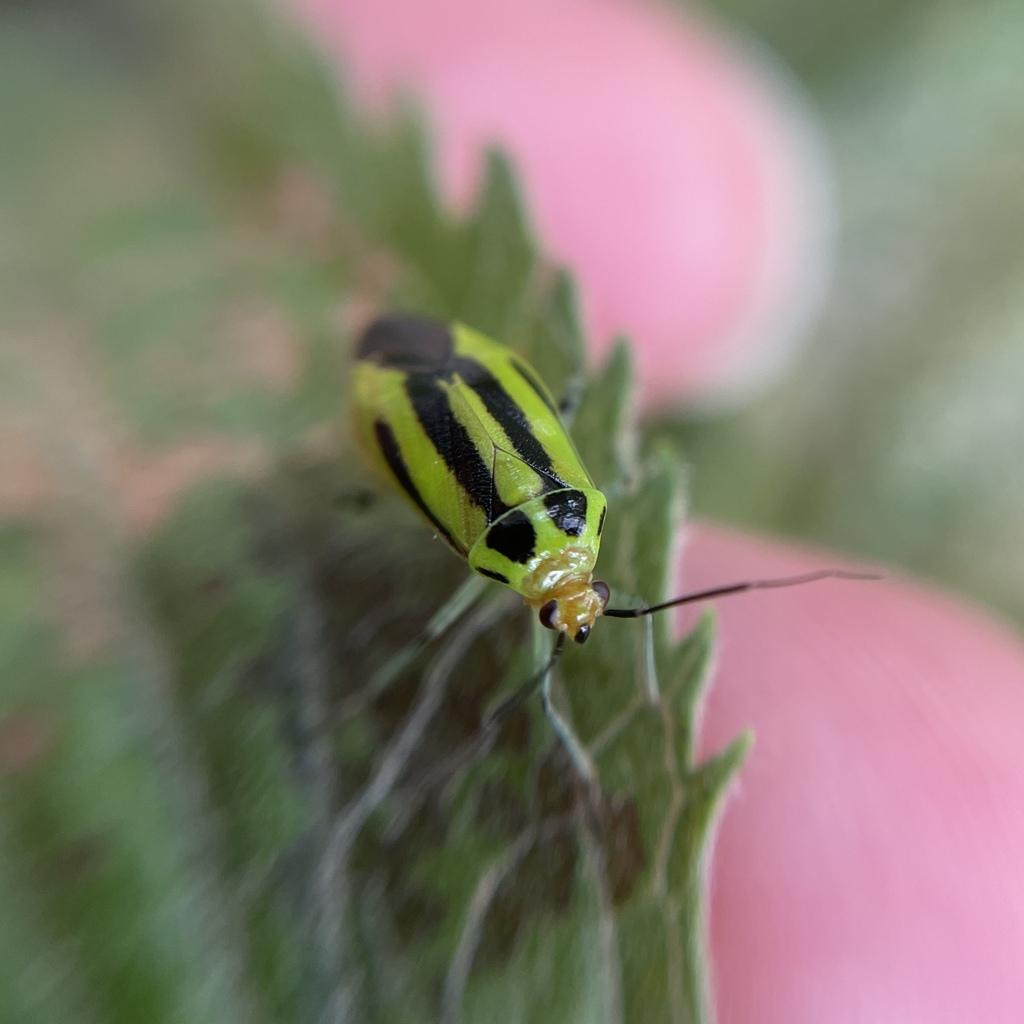plant_bugs: (266, 247, 893, 799)
